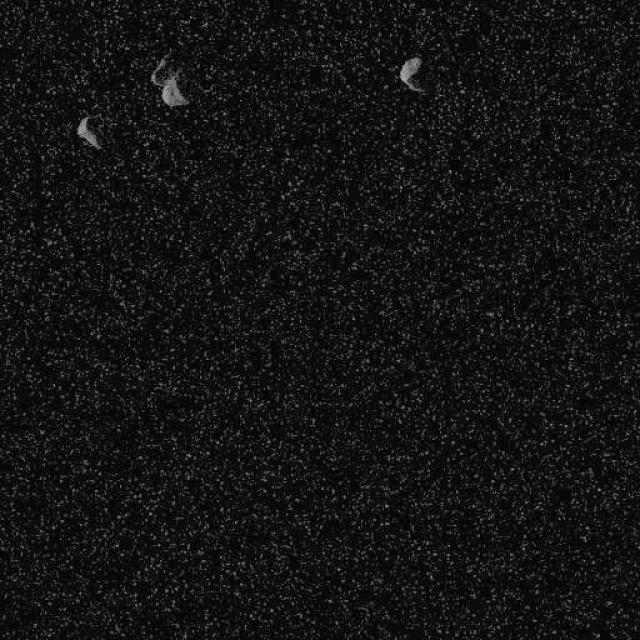D2: (149, 50, 189, 108), (397, 55, 425, 94), (75, 115, 101, 150)
